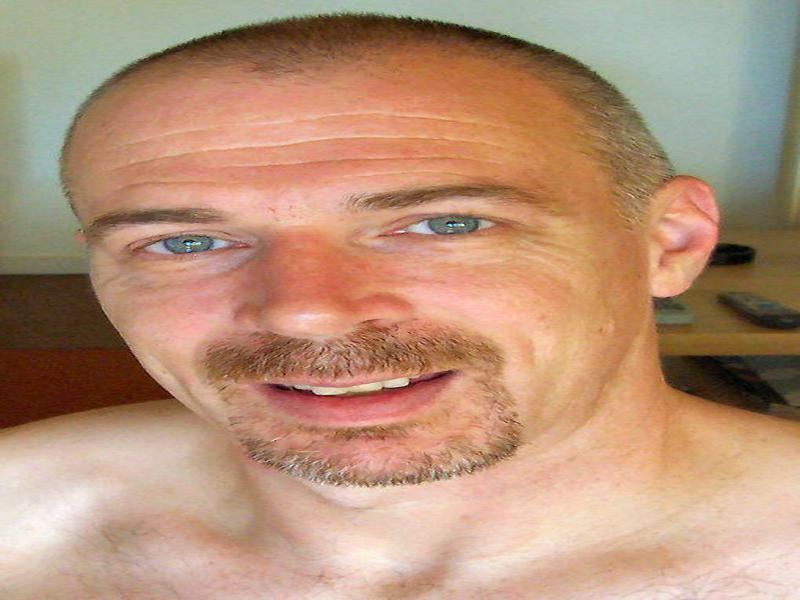person: (32, 11, 800, 595)
